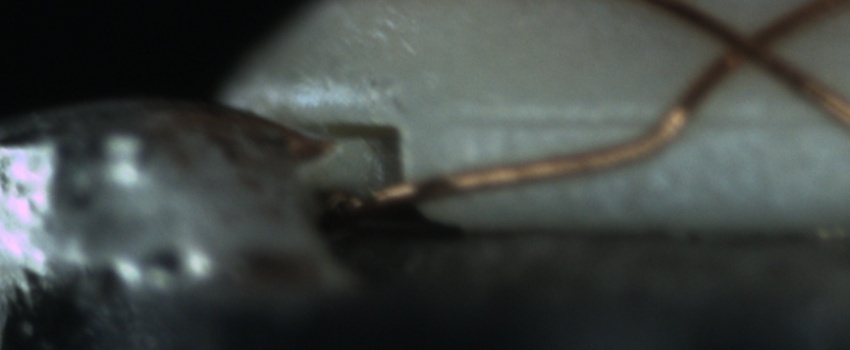CL: (703, 9, 789, 79)
DL: (455, 88, 819, 152)
